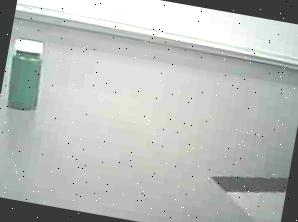Bottle C: (0, 31, 58, 120)
